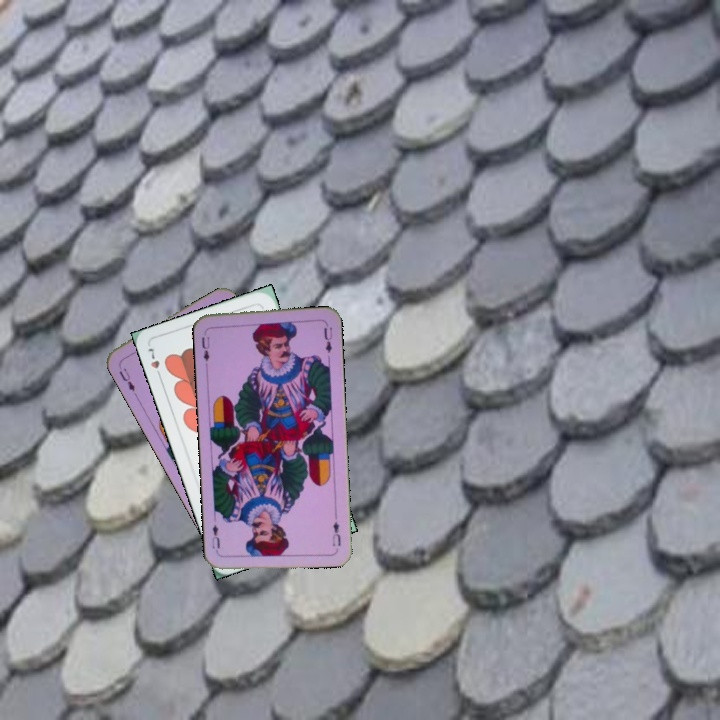EU: (114, 360, 139, 398), (328, 510, 343, 549), (197, 333, 212, 368)
H7: (144, 344, 164, 382)
